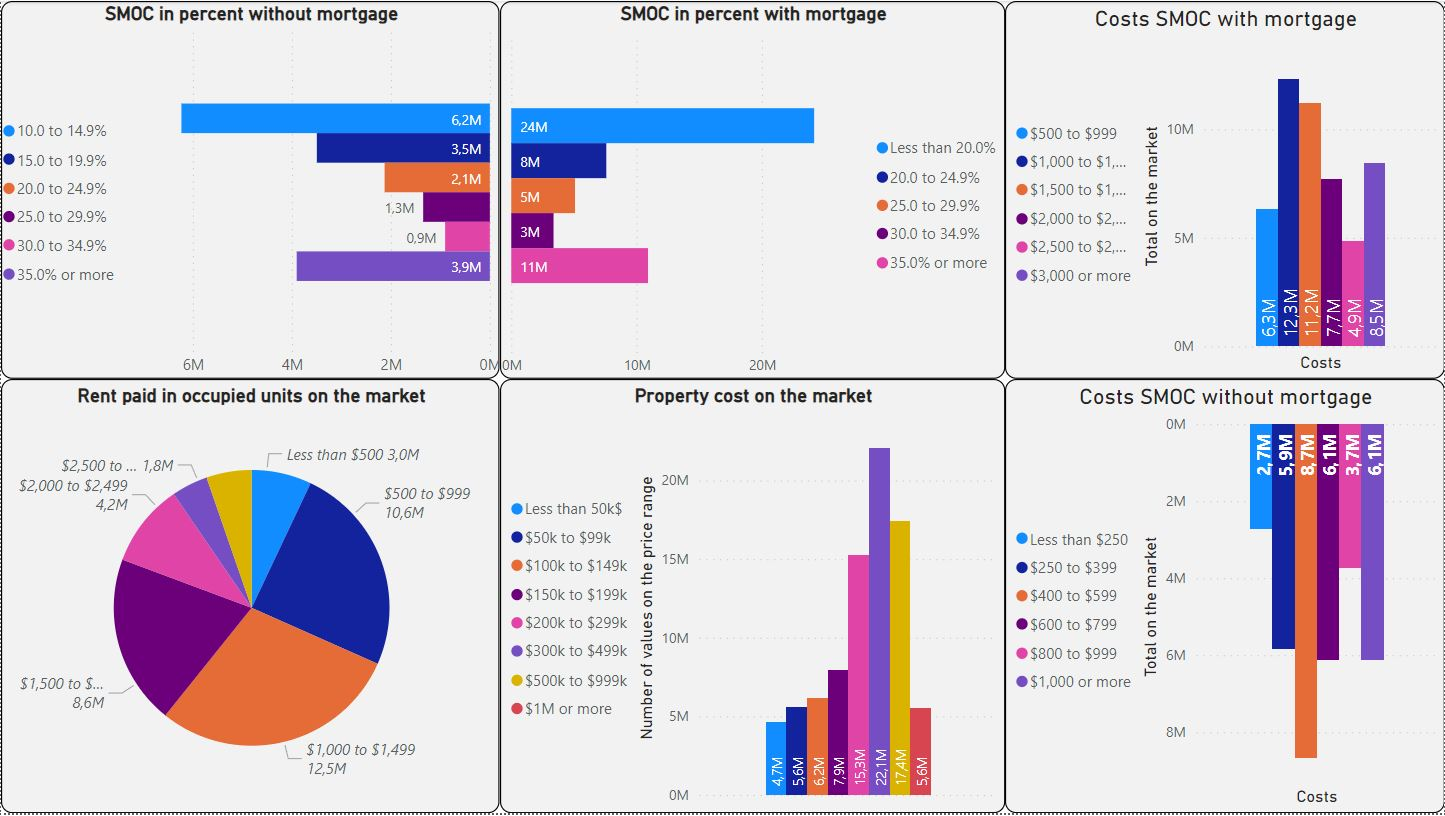

Layout of this report page (visuals, bound fields, positions):
{"tool":"powerbi","page":{"name":"Commercial statement","canvas":[1280,720],"ordinal":1},"visuals":[{"type":"clusteredBarChart","title":"SMOC in percent with mortgage","fields":{"Y":["Sum(Percent income with mortgage.Less than 20.0 percent)","Sum(Percent income with mortgage.20.0 to 24.9 percent)","Sum(Percent income with mortgage.25.0 to 29.9 percent)","Sum(Percent income with mortgage.30.0 to 34.9 percent)","Sum(Percent income with mortgage.35.0 percent or more)"]},"box":[442.5,0,447.8,335.2],"z":0},{"type":"clusteredBarChart","title":"SMOC in percent without mortgage","fields":{"Y":["Sum(SMOC Percent income without mortgage.10.0 to 14.9 percent)","Sum(SMOC Percent income without mortgage.15.0 to 19.9 percent)","Sum(Percent income without mortgage.20.0 to 24.9 percent)","Sum(Percent income without mortgage.25.0 to 29.9 percent)","Sum(Percent income without mortgage.30.0 to 34.9 percent)","Sum(Percent income without mortgage.35.0 percent or more)"]},"box":[0,0,442.5,335.2],"z":1000},{"type":"pieChart","title":"Rent paid in occupied units on the market","fields":{"Y":["Sum(Rent.Less than $500)","Sum(Rent.$500 to $999)","Sum(Rent.$1,000 to $1,499)","Sum(Rent.$1,500 to $1,999)","Sum(Rent.$2,000 to $2,499)","Sum(Rent.$2,500 to $2,999)","Sum(Rent.$3,000 or more)"]},"box":[0,335.2,442.5,384.8],"z":2000},{"type":"clusteredColumnChart","title":"Property cost on the market","fields":{"Y":["Sum(Value.Less than $50,000)","Sum(Value.$50,000 to $99,999)","Sum(Value.$100,000 to $149,999)","Sum(Value.$150,000 to $199,999)","Sum(Value.$200,000 to $299,999)","Sum(Value.$300,000 to $499,999)","Sum(Value.$500,000 to $999,999)","Sum(Value.$1,000,000 or more)"]},"box":[442.5,335.2,447.8,384.8],"z":3000},{"type":"clusteredColumnChart","title":"Costs SMOC without mortgage","fields":{"Y":["Sum(Costs SMOC without mortgage.Less than $250)","Sum(Costs SMOC without mortgage.$250 to $399)","Sum(Costs SMOC without mortgage.$400 to $599)","Sum(Costs SMOC without mortgage.$600 to $799)","Sum(Costs SMOC without mortgage.$800 to $999)","Sum(Costs SMOC without mortgage.$1,000 or more)"]},"box":[890.2,335.2,390.1,384.8],"z":4000},{"type":"clusteredColumnChart","title":"Costs SMOC with mortgage","fields":{"Y":["Sum(Costs SMOC with mortgage.$500 to $999)","Sum(Costs SMOC with mortgage.$1,000 to $1,499)","Sum(Costs SMOC with mortgage.$1,500 to $1,999)","Sum(Costs SMOC with mortgage.$2,000 to $2,499)","Sum(Costs SMOC with mortgage.$2,500 to $2,999)","Sum(Costs SMOC with mortgage.$3,000 or more)"]},"box":[890.2,0,390.1,335.2],"z":5000}]}

Visuals, with their boxes in screenshot pixels (x1, y1, x2, y2), scaled from the page's 1280x720 canvas onto the 1445x816 screenshot:
"SMOC in percent with mortgage" clusteredBarChart: select_region(500, 0, 1005, 380)
"SMOC in percent without mortgage" clusteredBarChart: select_region(0, 0, 500, 380)
"Rent paid in occupied units on the market" pieChart: select_region(0, 380, 500, 815)
"Property cost on the market" clusteredColumnChart: select_region(500, 380, 1005, 815)
"Costs SMOC without mortgage" clusteredColumnChart: select_region(1005, 380, 1444, 815)
"Costs SMOC with mortgage" clusteredColumnChart: select_region(1005, 0, 1444, 380)
